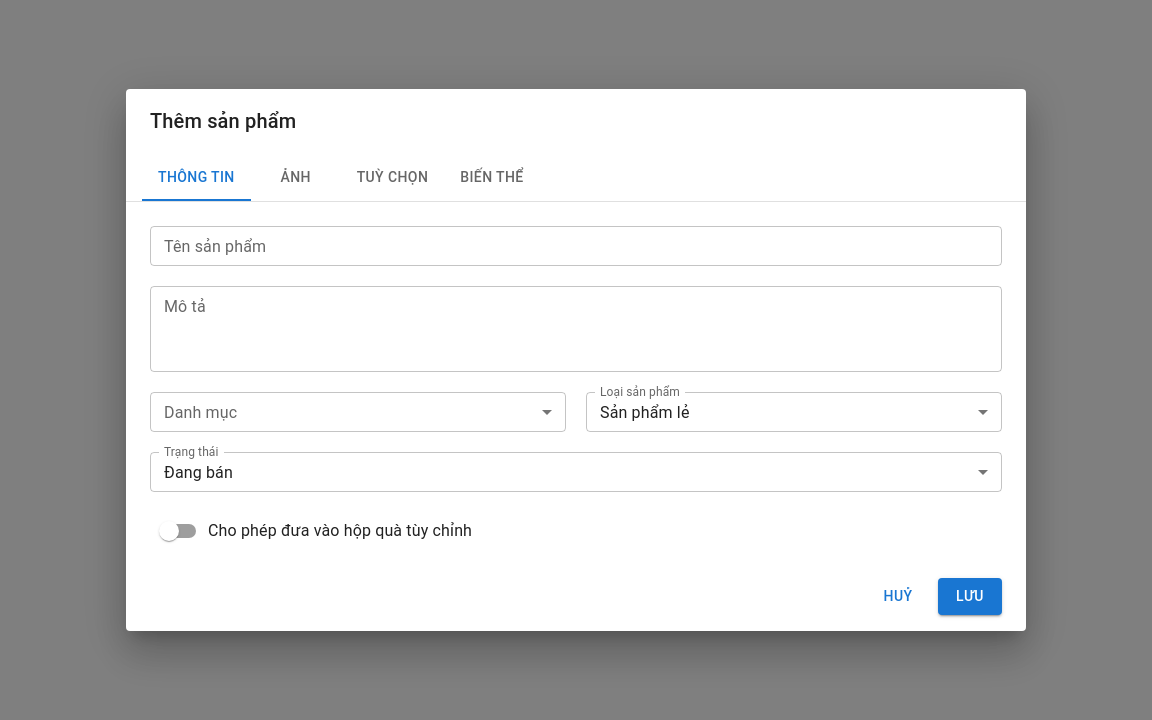
ProductFormDialog › lỗi ở thẻ khác: chuyển tới thẻ có lỗi và không gửi
The image size is (1152, 720).
Click the button "Lưu" at (970, 597), box [938,578,1002,615]
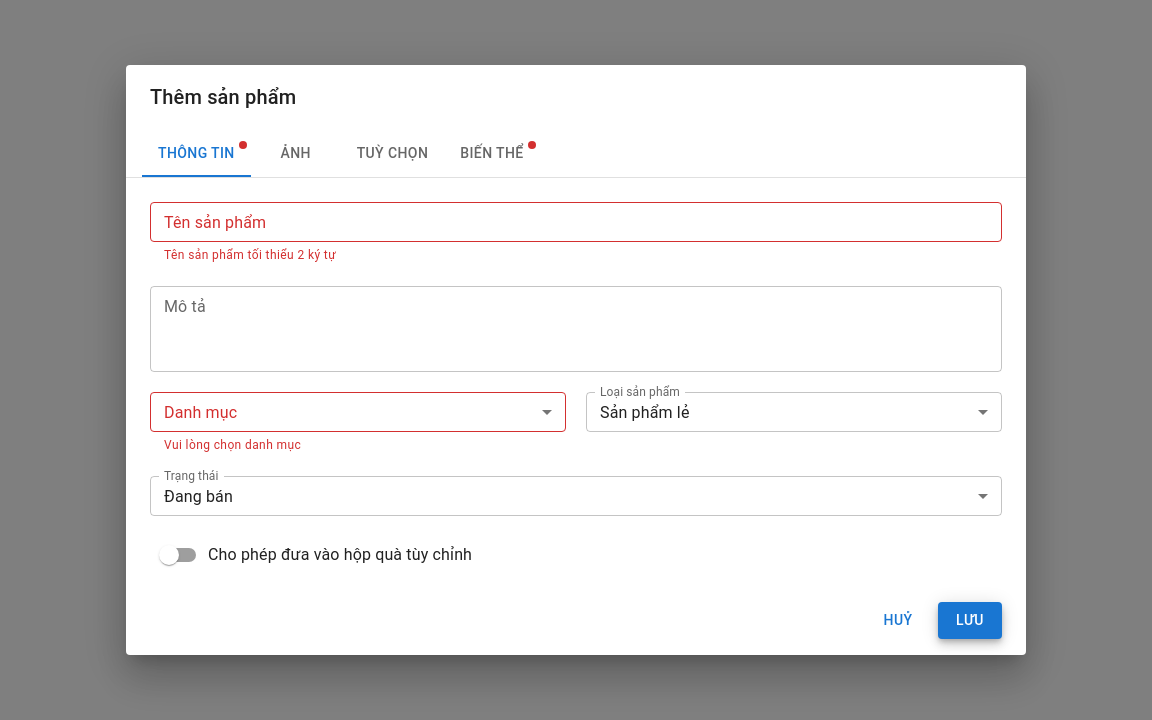
Check: the text "Tên sản phẩm tối thiểu 2 ký tự" is shown, box [164,248,336,262]
